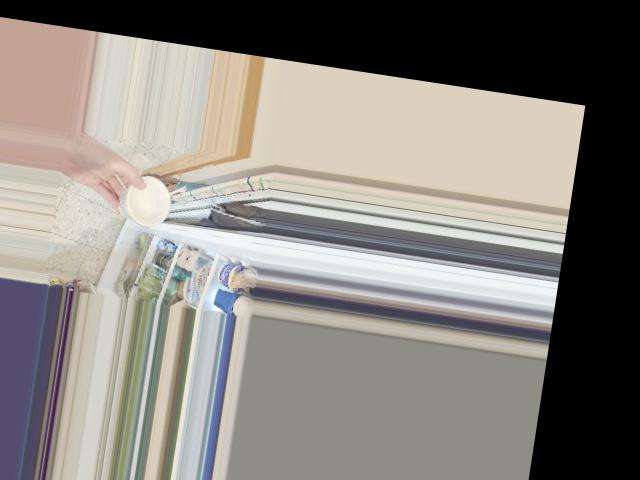cotage: (118, 177, 171, 227)
